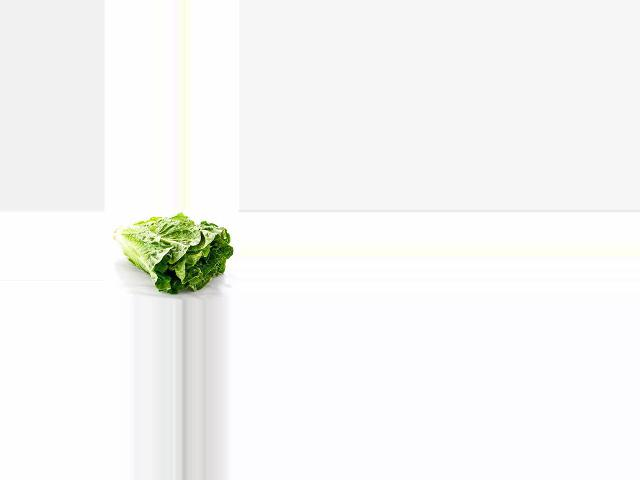lettuce: (115, 211, 231, 295)
